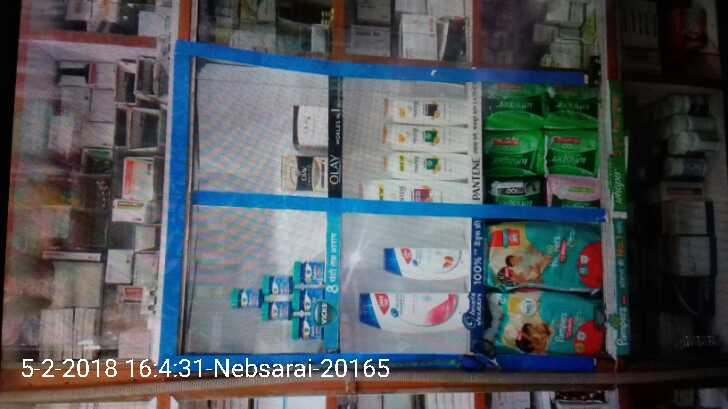vicks: (227, 255, 330, 343)
